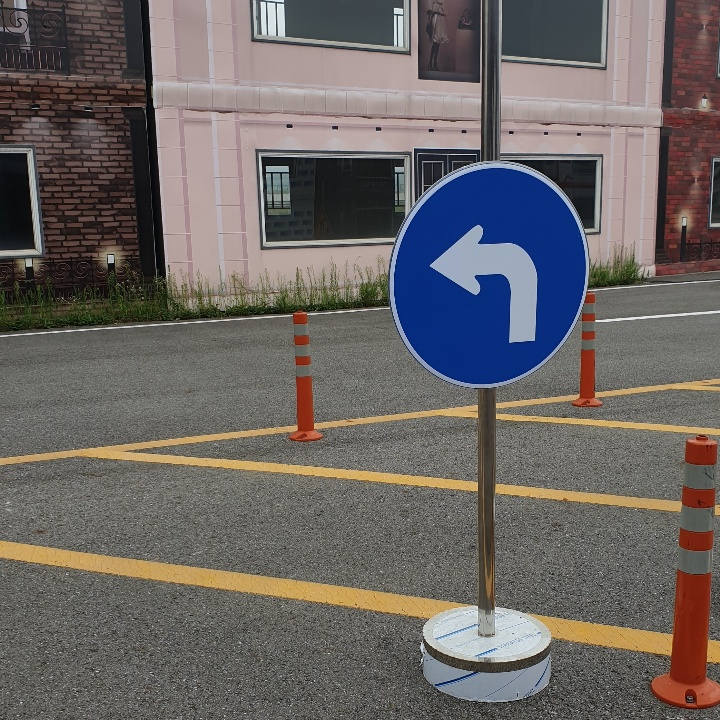left: (421, 217, 551, 359)
